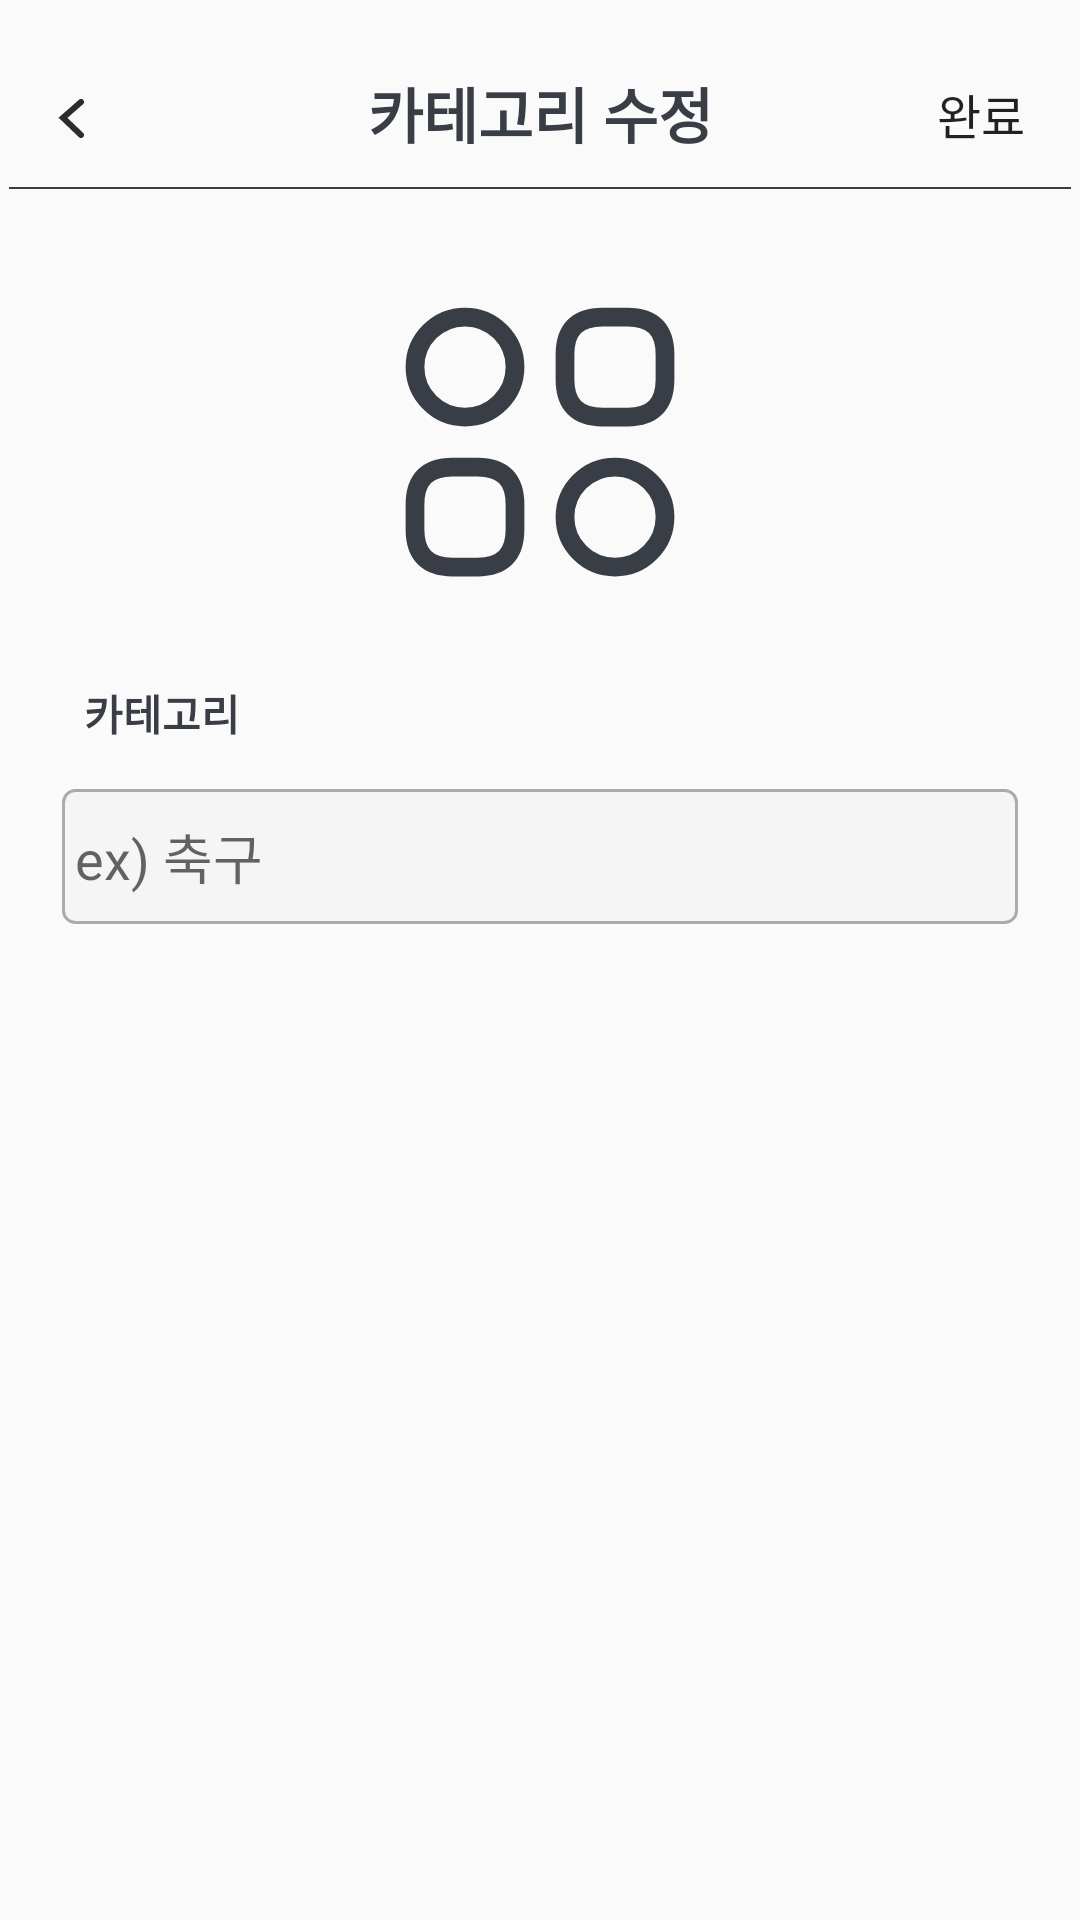

Screen size 1080 × 1920. Icon name, then its center in pixels as point (x, y):
arrow: point (71, 118)
category: point (540, 442)
